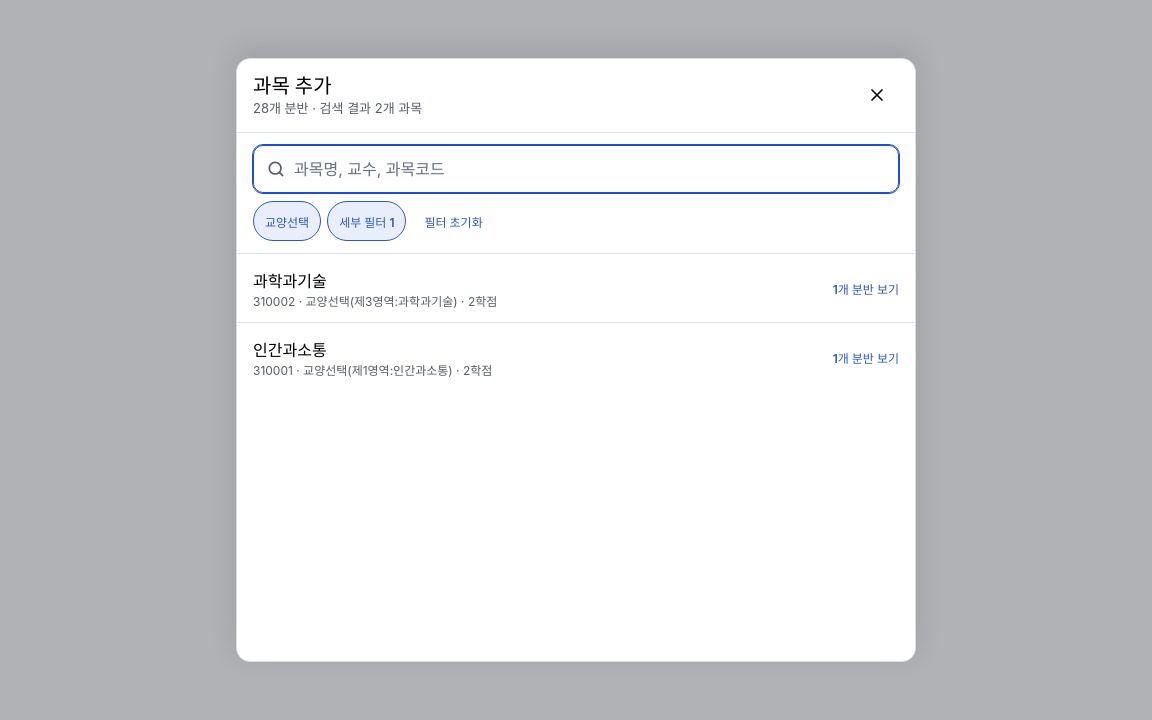
Test: course search sheet › opens directly on all liberal electives when the planner requests the liberal step
Click the button "세부 필터 1". click: (367, 221)
box: [327,201,406,241]
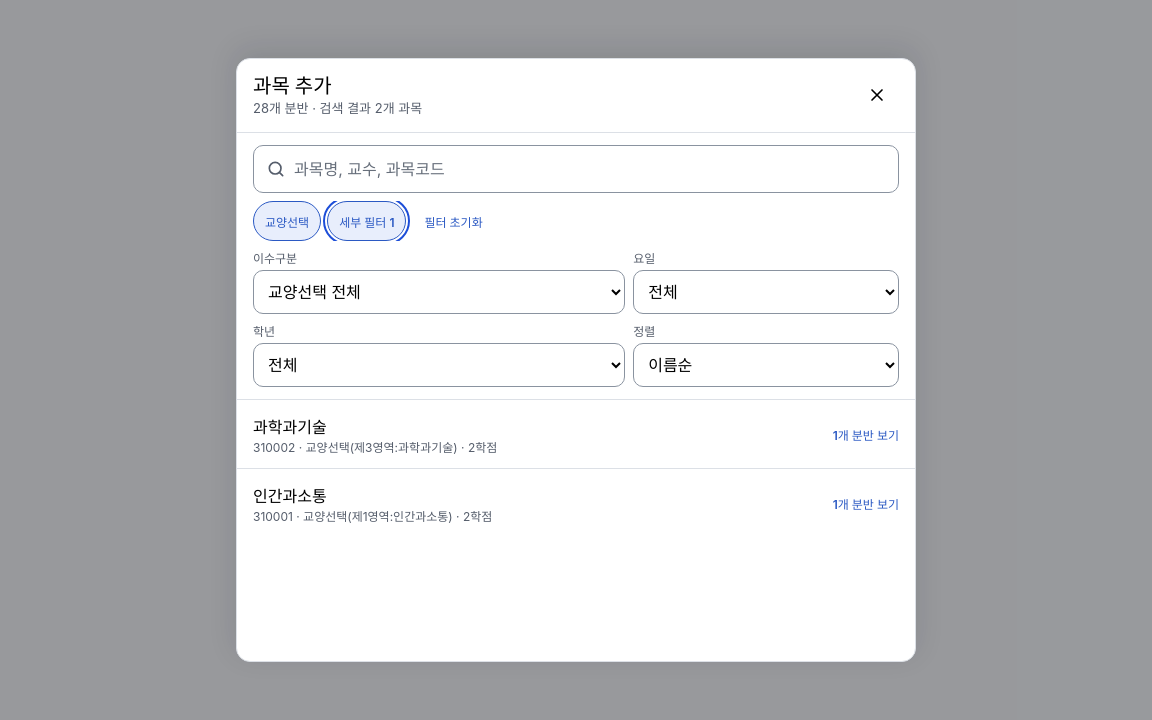
Expected: the number of buttons "과학과기술 310002 · 교양선택(제3영역:과학과기술) · 2학점 1개 분반 보기" is 2, [237,400,915,468]; [237,469,915,537]
Expected: the dropdown labelled "이수구분" shows "교양선택 전체", [253,270,625,314]
